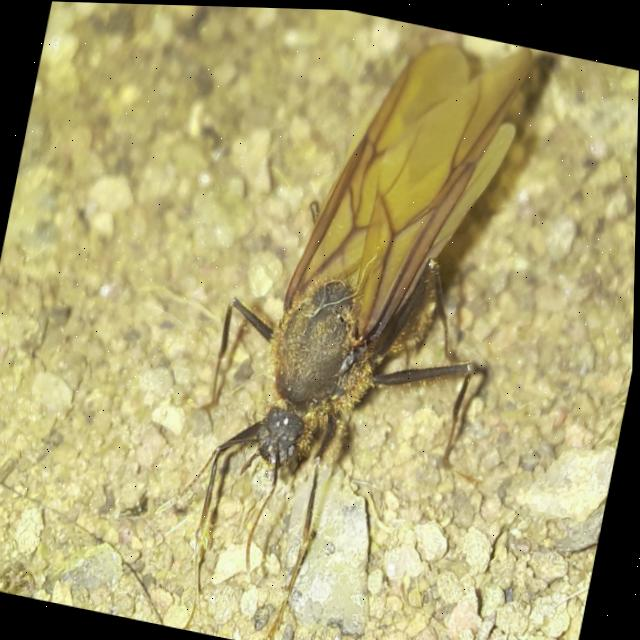Alive-Male-Alate: (126, 3, 550, 640)
